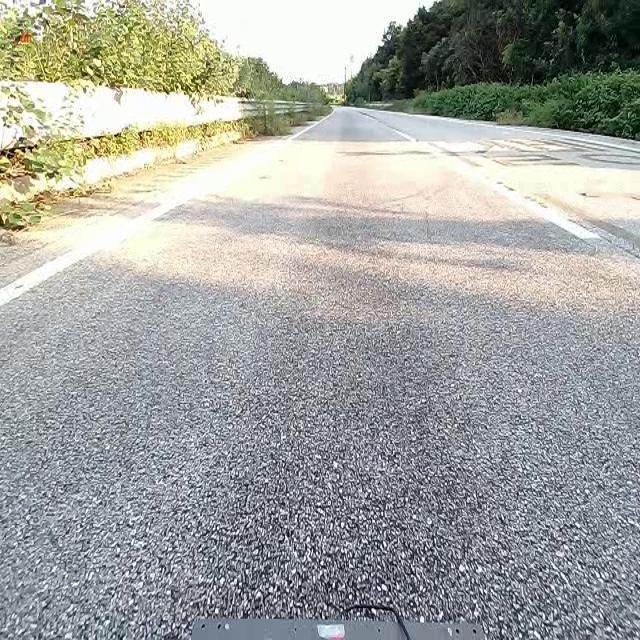Lane: (2, 185, 196, 307), (0, 193, 191, 307), (458, 153, 612, 258), (458, 161, 609, 244)
